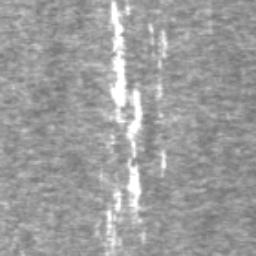White rust: (110, 1, 142, 158), (126, 158, 142, 213), (106, 192, 122, 235), (160, 29, 167, 49), (161, 150, 166, 169), (148, 23, 154, 34), (126, 6, 131, 15)
